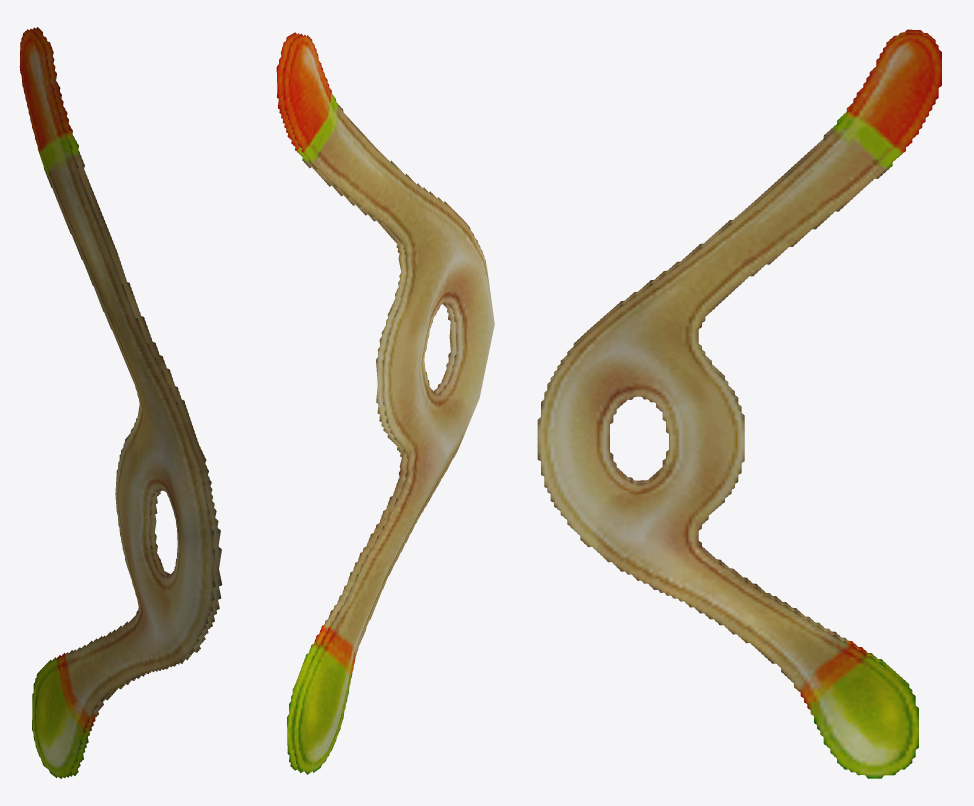
The model's file is WpnPrimBoomerang.obj.
3 views of the same model, side by side, from view 1: azimuth 30°, elevation 25°; view 2: azimuth 150°, elevation 25°; view 3: azimuth 270°, elevation 25° (orthographic). The views are drawn at different scales.
Visible parts, largest first — view 1: polygon0; view 2: polygon0; view 3: polygon0.
Boxes of the visible parts, x1,y1,x2,y2 form: polygon0: (19, 27, 222, 778); polygon0: (276, 32, 494, 774); polygon0: (537, 29, 941, 778).
Bounding box in the file's own units: 0.6659 × 16.24 × 8.3.
1 material, 1 textured.
